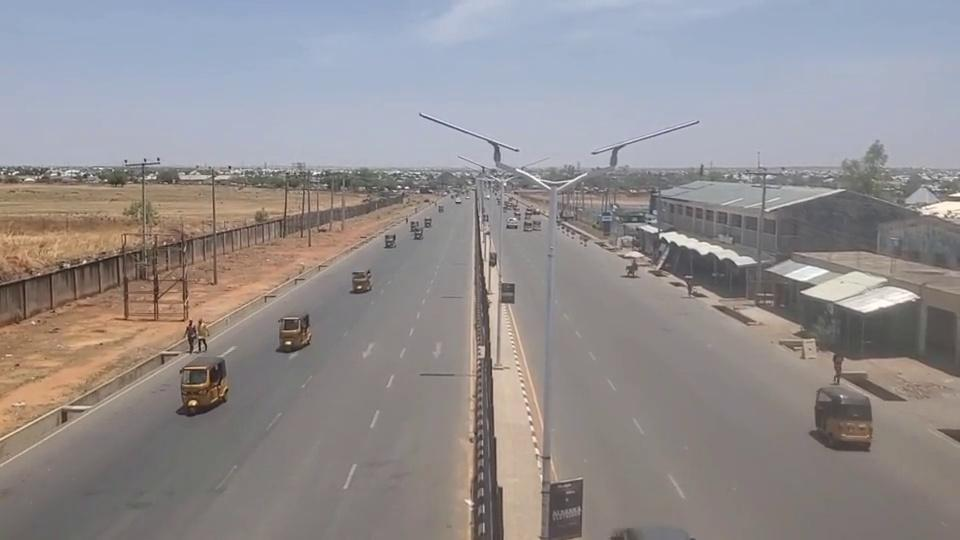car: (609, 522, 698, 540), (506, 217, 519, 229)
keke: (813, 384, 873, 447), (178, 354, 228, 413), (277, 314, 311, 350), (350, 269, 372, 292), (385, 234, 397, 248), (415, 227, 423, 240), (523, 221, 532, 232), (410, 221, 419, 232), (533, 220, 541, 231), (424, 217, 432, 227)
